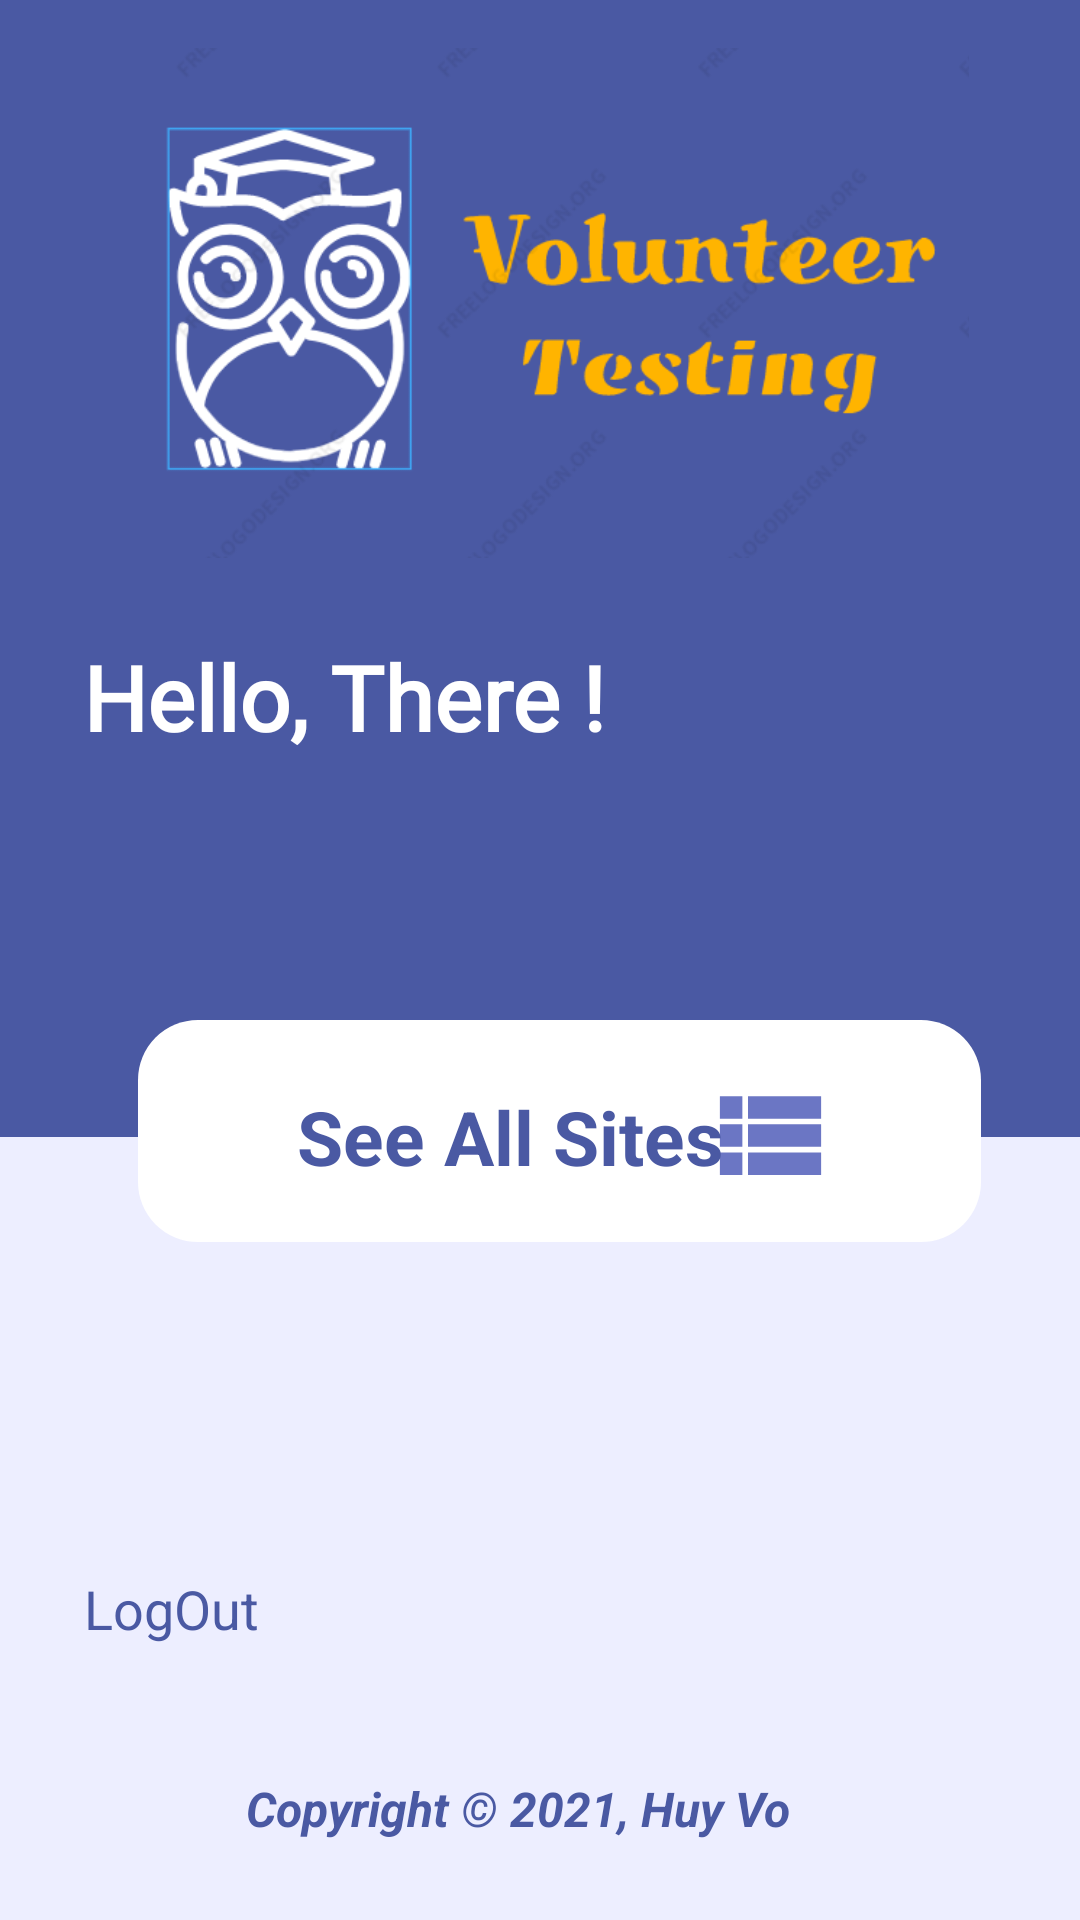

Named icons in this screenshot (1080 × 1920) and their centers, (x=x, y=y):
view list: (x=770, y=1135)
